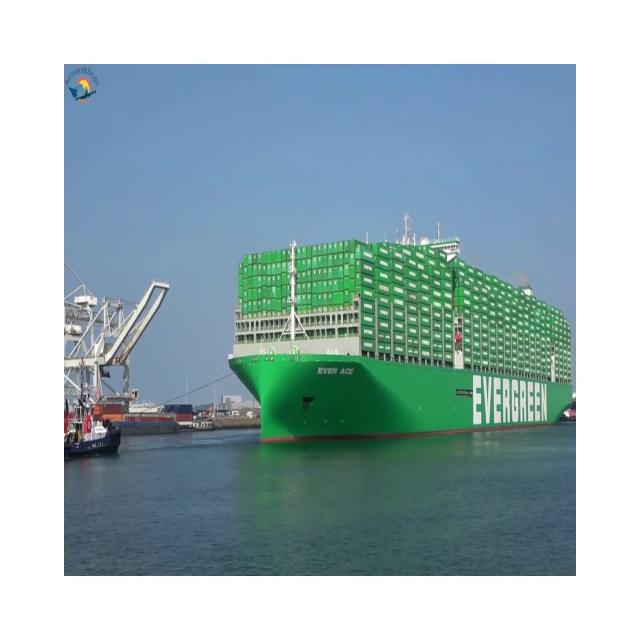OCR: (466, 364, 550, 434), (312, 351, 357, 389)
